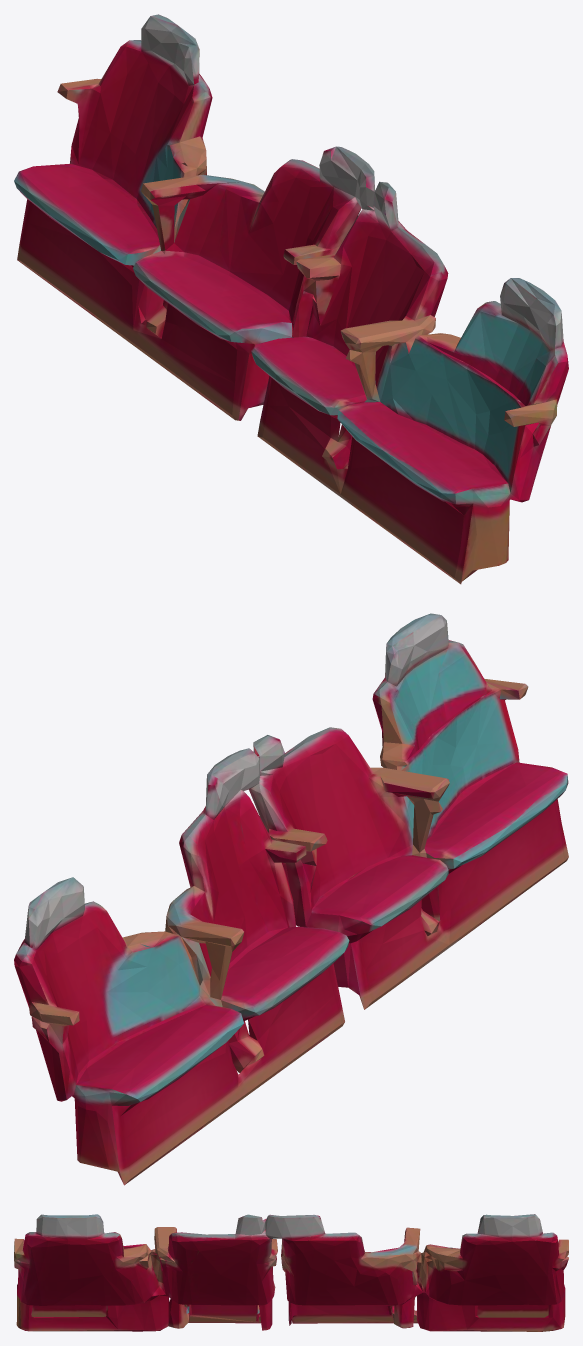
Rendered from cinema_seats.glb.
The picture shows the model from 3 angles, top to bottom: view 1: azimuth 30°, elevation 25°; view 2: azimuth 150°, elevation 25°; view 3: azimuth 270°, elevation 25°; orthographic projection. The views are drawn at different scales.
Parts seen in each view (by area): view 1: textured_mesh.obj; view 2: textured_mesh.obj; view 3: textured_mesh.obj.
Boxes of the visible parts, x1,y1,x2,y2 form: textured_mesh.obj: (14, 14, 568, 584); textured_mesh.obj: (14, 613, 568, 1185); textured_mesh.obj: (14, 1214, 568, 1331).
Size of the model in its own units: 0.627 by 1 by 3.51.
1 material, 1 textured.
